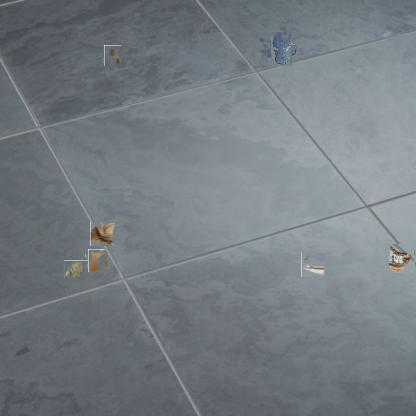dirty: (385, 244, 415, 272), (301, 253, 326, 277), (90, 223, 115, 247), (64, 260, 89, 279), (103, 46, 122, 65)
liquid: (267, 35, 295, 63), (86, 250, 107, 271)
